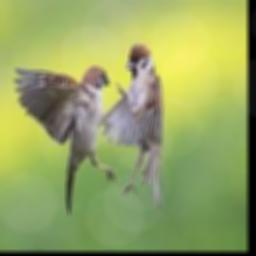Sparrow: (12, 65, 117, 214), (100, 41, 163, 209)
